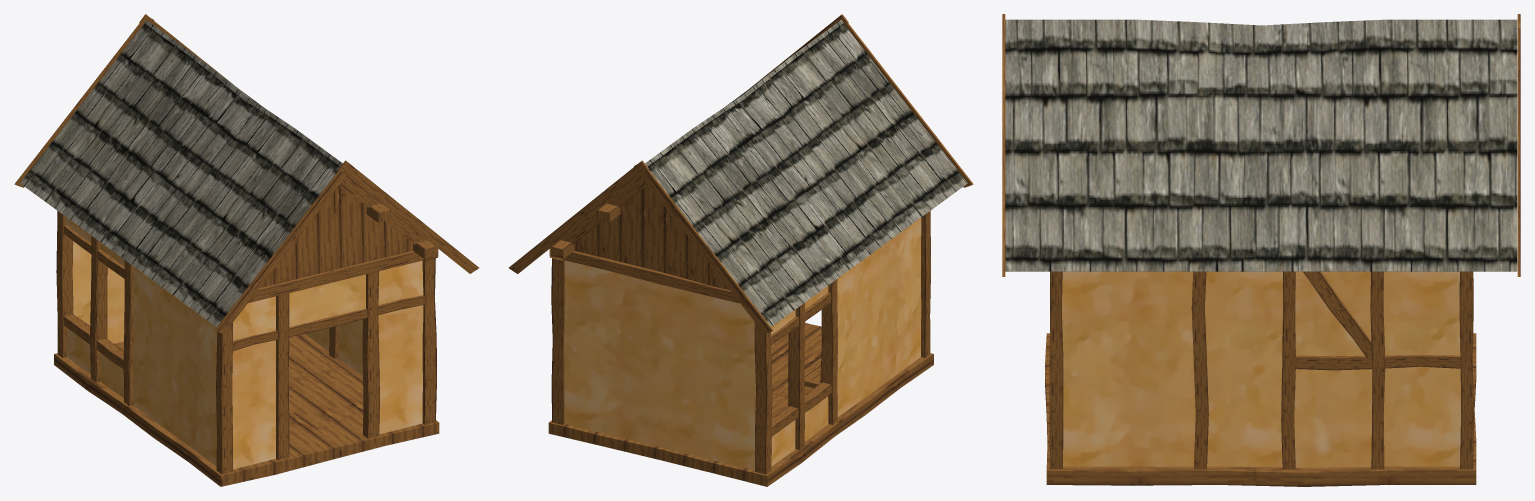
Rendered from table_hut.fbx.
3 renders of one model, left to right at view 1: azimuth 30°, elevation 25°; view 2: azimuth 150°, elevation 25°; view 3: azimuth 270°, elevation 25°, orthographic. The views are drawn at different scales.
Visible parts, largest first — view 1: house_table; view 2: house_table; view 3: house_table.
Boxes of the visible parts, <box> form: house_table: <box>14,14,478,486</box>; house_table: <box>509,14,973,486</box>; house_table: <box>1002,14,1520,486</box>.
Bounding box in the file's own units: 2153 × 2435 × 2838.
